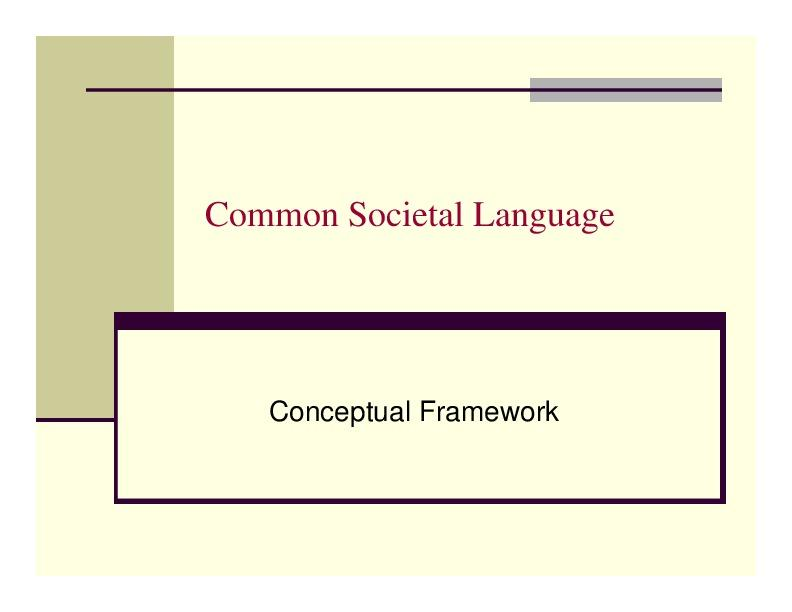subtitle: (249, 370, 588, 439)
title: (196, 190, 635, 248)
